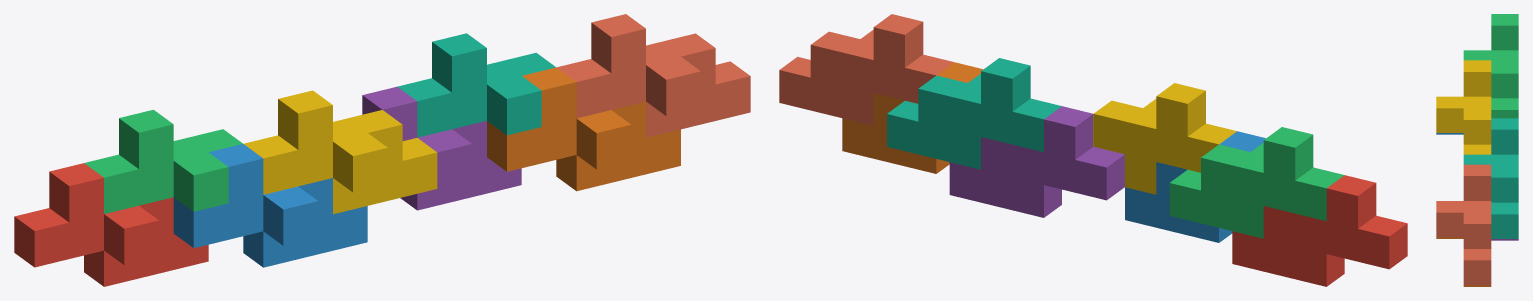
Rendered from tiling.obj.
The picture shows the model from 3 angles, left to right: view 1: azimuth 30°, elevation 25°; view 2: azimuth 150°, elevation 25°; view 3: azimuth 270°, elevation 25°; orthographic projection. The views are drawn at different scales.
Visible parts, largest first — view 1: copy_1_domain_8, copy_1_domain_4, copy_1_domain_1, copy_1_domain_2, copy_1_domain_6, copy_1_domain_7, copy_1_domain_3, copy_1_domain_5; view 2: copy_1_domain_3, copy_1_domain_7, copy_1_domain_1, copy_1_domain_5, copy_1_domain_8, copy_1_domain_4, copy_1_domain_6, copy_1_domain_2; view 3: copy_1_domain_8, copy_1_domain_4, copy_1_domain_7, copy_1_domain_3, copy_1_domain_6.
Part boxes in pixels (left/top/right/bottom): copy_1_domain_8: left=557, top=14, right=750, bottom=137; copy_1_domain_4: left=243, top=90, right=437, bottom=214; copy_1_domain_1: left=14, top=163, right=208, bottom=286; copy_1_domain_2: left=173, top=144, right=367, bottom=267; copy_1_domain_6: left=487, top=67, right=680, bottom=191; copy_1_domain_7: left=397, top=33, right=555, bottom=137; copy_1_domain_3: left=84, top=109, right=242, bottom=213; copy_1_domain_5: left=362, top=86, right=521, bottom=210; copy_1_domain_3: left=1169, top=127, right=1344, bottom=238; copy_1_domain_7: left=887, top=58, right=1061, bottom=169; copy_1_domain_1: left=1232, top=175, right=1407, bottom=286; copy_1_domain_5: left=949, top=106, right=1124, bottom=217; copy_1_domain_8: left=779, top=14, right=954, bottom=125; copy_1_domain_4: left=1093, top=83, right=1236, bottom=194; copy_1_domain_6: left=842, top=62, right=982, bottom=173; copy_1_domain_2: left=1125, top=131, right=1265, bottom=242; copy_1_domain_8: left=1436, top=164, right=1491, bottom=285; copy_1_domain_4: left=1436, top=60, right=1491, bottom=154; copy_1_domain_7: left=1463, top=118, right=1518, bottom=238; copy_1_domain_3: left=1463, top=14, right=1518, bottom=118; copy_1_domain_6: left=1436, top=237, right=1491, bottom=286.
Bounding box in the file's own units: 20 × 4 × 3.
